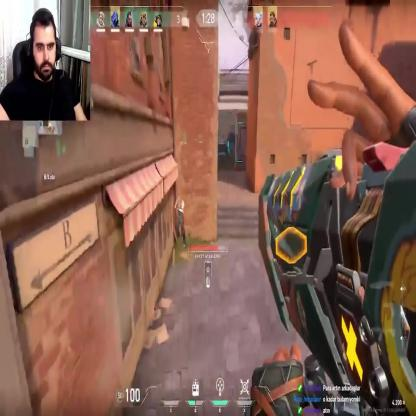enemy: (172, 194, 187, 248)
enemy_head: (177, 195, 181, 203)
